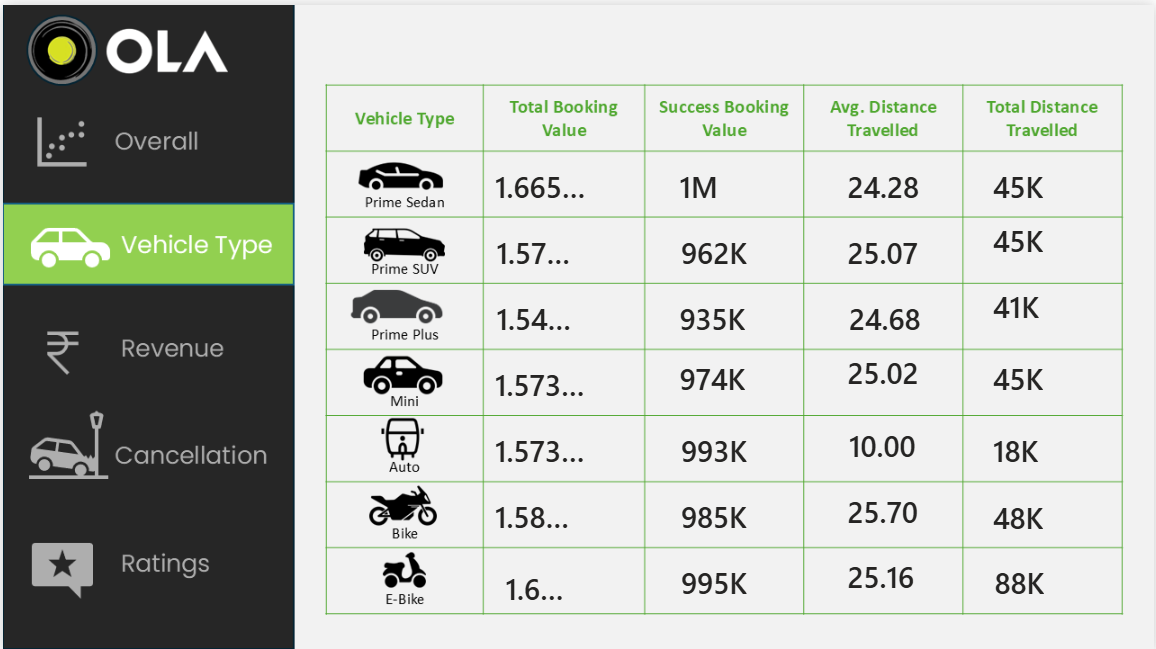

This screenshot's page, from the dashboard's own definition file:
{"tool":"powerbi","page":{"name":"Vehicle Type","canvas":[1280,720],"ordinal":1},"visuals":[{"type":"cardVisual","fields":{"Data":["Sum(July.Booking_Value)"]},"box":[511.4,127.4,187.2,146.7],"z":0},{"type":"cardVisual","fields":{"Data":["Sum(July.Booking_Value)"]},"box":[513.3,200.7,164,146.7],"z":1000},{"type":"cardVisual","fields":{"Data":["Sum(July.Booking_Value)"]},"box":[513.3,274,164,146.7],"z":2000},{"type":"cardVisual","fields":{"Data":["Sum(July.Booking_Value)"]},"box":[511.4,347.3,187.2,146.7],"z":3000},{"type":"cardVisual","fields":{"Data":["Sum(July.Booking_Value)"]},"box":[511.4,420.7,187.2,146.7],"z":4000},{"type":"cardVisual","fields":{"Data":["Sum(July.Booking_Value)"]},"box":[511.4,494,164,146.7],"z":5000},{"type":"cardVisual","fields":{"Data":["Sum(July.Booking_Value)"]},"box":[522.9,573.1,142.8,146.7],"z":6000},{"type":"cardVisual","fields":{"Data":["Sum(July.Booking_Value)"]},"box":[715.9,127.4,187.2,146.7],"z":7000},{"type":"cardVisual","fields":{"Data":["Sum(July.Booking_Value)"]},"box":[717.8,200.7,187.2,146.7],"z":8000},{"type":"cardVisual","fields":{"Data":["Sum(July.Booking_Value)"]},"box":[715.9,274,187.2,146.7],"z":9000},{"type":"cardVisual","fields":{"Data":["Sum(July.Booking_Value)"]},"box":[715.9,347.3,187.2,133.1],"z":10000},{"type":"cardVisual","fields":{"Data":["Sum(July.Booking_Value)"]},"box":[717.8,420.7,187.2,146.7],"z":11000},{"type":"cardVisual","fields":{"Data":["Sum(July.Booking_Value)"]},"box":[717.8,494,187.2,146.7],"z":12000},{"type":"cardVisual","fields":{"Data":["Sum(July.Booking_Value)"]},"box":[717.8,567.3,187.2,146.7],"z":13000},{"type":"cardVisual","fields":{"Data":["Avg(July.Ride_Distance)"]},"box":[903.1,127.4,187.2,146.7],"z":14000},{"type":"cardVisual","fields":{"Data":["Avg(July.Ride_Distance)"]},"box":[903.1,200.7,187.2,146.7],"z":15000},{"type":"cardVisual","fields":{"Data":["Avg(July.Ride_Distance)"]},"box":[905,274,187.2,146.7],"z":16000},{"type":"cardVisual","fields":{"Data":["Avg(July.Ride_Distance)"]},"box":[903.1,333.8,187.2,146.7],"z":17000},{"type":"cardVisual","fields":{"Data":["Avg(July.Ride_Distance)"]},"box":[905,414.9,187.2,146.7],"z":18000},{"type":"cardVisual","fields":{"Data":["Avg(July.Ride_Distance)"]},"box":[903.1,488.2,187.2,146.7],"z":19000},{"type":"cardVisual","fields":{"Data":["Avg(July.Ride_Distance)"]},"box":[903.5,559.9,187.7,147.9],"z":20000},{"type":"cardVisual","fields":{"Data":["Sum(July.Ride_Distance)"]},"box":[1065.2,127.4,187.2,146.7],"z":21000},{"type":"cardVisual","fields":{"Data":["Sum(July.Ride_Distance)"]},"box":[1065.2,187.2,187.2,146.7],"z":22000},{"type":"cardVisual","fields":{"Data":["Sum(July.Ride_Distance)"]},"box":[1065.2,260.5,187.2,146.7],"z":23000},{"type":"cardVisual","fields":{"Data":["Sum(July.Ride_Distance)"]},"box":[1065.7,340.4,186.1,146.3],"z":24000},{"type":"cardVisual","fields":{"Data":["Sum(July.Ride_Distance)"]},"box":[1065.7,419.9,186.1,146.3],"z":25000},{"type":"cardVisual","fields":{"Data":["Sum(July.Ride_Distance)"]},"box":[1065.7,494.7,186.1,146.3],"z":26000},{"type":"cardVisual","fields":{"Data":["Sum(July.Ride_Distance)"]},"box":[1067.3,566.3,186.1,146.3],"z":27000}]}

Visuals, with their boxes on the page's 1280x720 design canvas (x1, y1, x2, y2). These are canvas units, not pixel positions in the 1156x649 screenshot, which may show the page scaled, cropped or inside an application window:
cardVisual - Sum(July.Booking_Value): BBox(511, 127, 699, 274)
cardVisual - Sum(July.Booking_Value): BBox(513, 201, 677, 347)
cardVisual - Sum(July.Booking_Value): BBox(513, 274, 677, 421)
cardVisual - Sum(July.Booking_Value): BBox(511, 347, 699, 494)
cardVisual - Sum(July.Booking_Value): BBox(511, 421, 699, 567)
cardVisual - Sum(July.Booking_Value): BBox(511, 494, 675, 641)
cardVisual - Sum(July.Booking_Value): BBox(523, 573, 666, 720)
cardVisual - Sum(July.Booking_Value): BBox(716, 127, 903, 274)
cardVisual - Sum(July.Booking_Value): BBox(718, 201, 905, 347)
cardVisual - Sum(July.Booking_Value): BBox(716, 274, 903, 421)
cardVisual - Sum(July.Booking_Value): BBox(716, 347, 903, 480)
cardVisual - Sum(July.Booking_Value): BBox(718, 421, 905, 567)
cardVisual - Sum(July.Booking_Value): BBox(718, 494, 905, 641)
cardVisual - Sum(July.Booking_Value): BBox(718, 567, 905, 714)
cardVisual - Avg(July.Ride_Distance): BBox(903, 127, 1090, 274)
cardVisual - Avg(July.Ride_Distance): BBox(903, 201, 1090, 347)
cardVisual - Avg(July.Ride_Distance): BBox(905, 274, 1092, 421)
cardVisual - Avg(July.Ride_Distance): BBox(903, 334, 1090, 480)
cardVisual - Avg(July.Ride_Distance): BBox(905, 415, 1092, 562)
cardVisual - Avg(July.Ride_Distance): BBox(903, 488, 1090, 635)
cardVisual - Avg(July.Ride_Distance): BBox(904, 560, 1091, 708)
cardVisual - Sum(July.Ride_Distance): BBox(1065, 127, 1252, 274)
cardVisual - Sum(July.Ride_Distance): BBox(1065, 187, 1252, 334)
cardVisual - Sum(July.Ride_Distance): BBox(1065, 260, 1252, 407)
cardVisual - Sum(July.Ride_Distance): BBox(1066, 340, 1252, 487)
cardVisual - Sum(July.Ride_Distance): BBox(1066, 420, 1252, 566)
cardVisual - Sum(July.Ride_Distance): BBox(1066, 495, 1252, 641)
cardVisual - Sum(July.Ride_Distance): BBox(1067, 566, 1253, 713)
